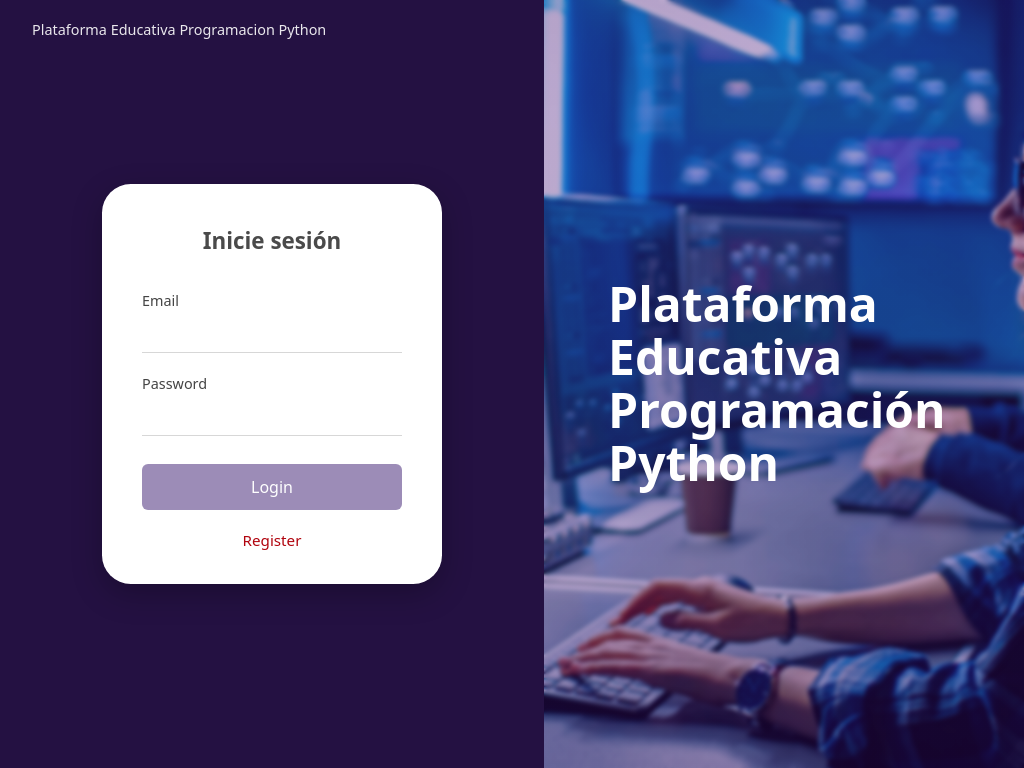
Test: LoginForm (TDD) - login con correo y password › muestra errores de validación cuando faltan datos o son inválidos
The image size is (1024, 768).
Submit the form with test id "form-login", box x1=102 y1=184 x2=442 y2=584
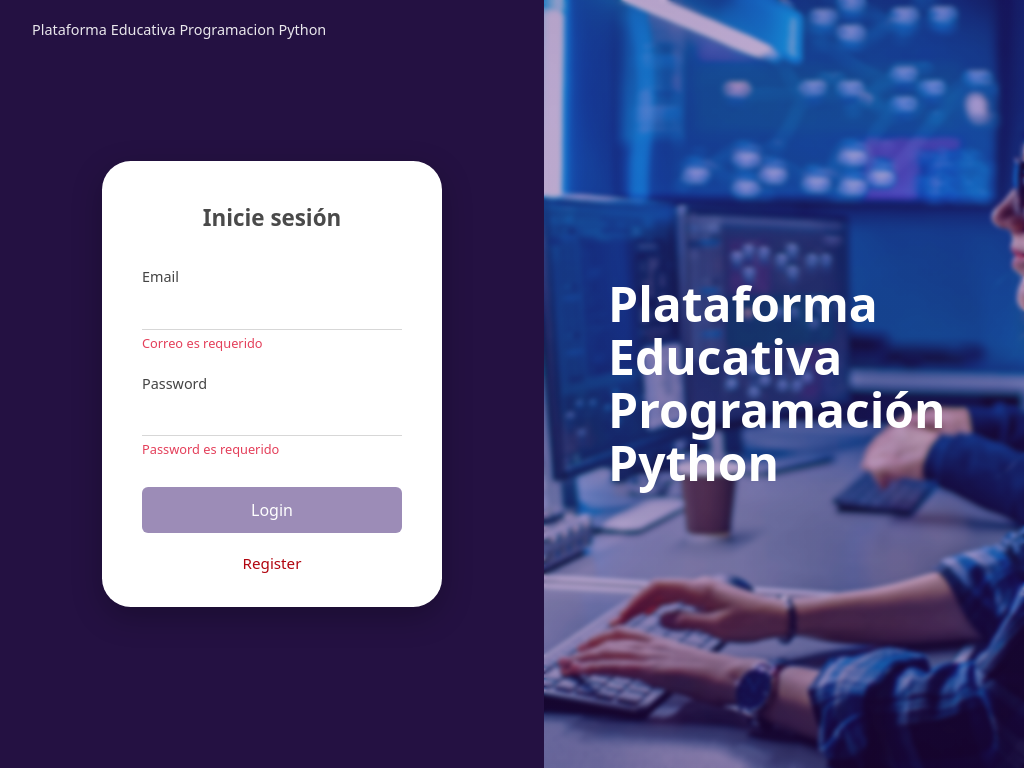
Expected: the text "Correo es requerido" is shown, x1=142 y1=334 x2=262 y2=352
Expected: the text "Password es requerido" is shown, x1=142 y1=440 x2=279 y2=458
In the field labelled "Email": point(272, 311) x1=142 y1=292 x2=402 y2=330, type "correo-sin-dominio"
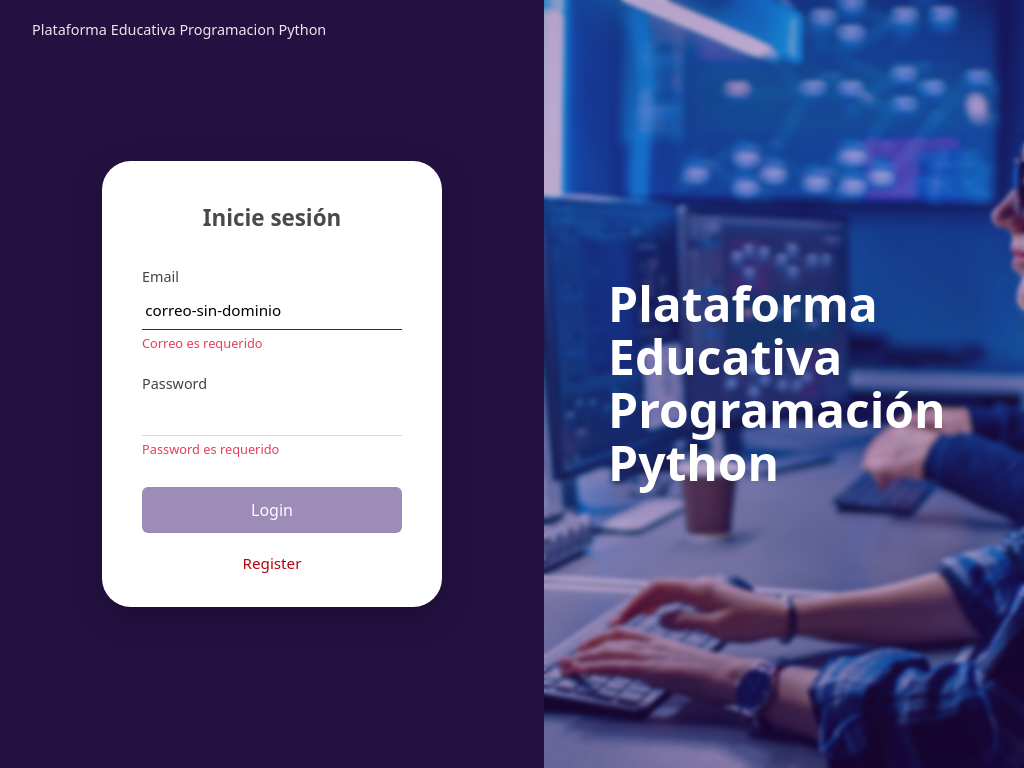
Submit the form with test id "form-login", box x1=102 y1=161 x2=442 y2=607
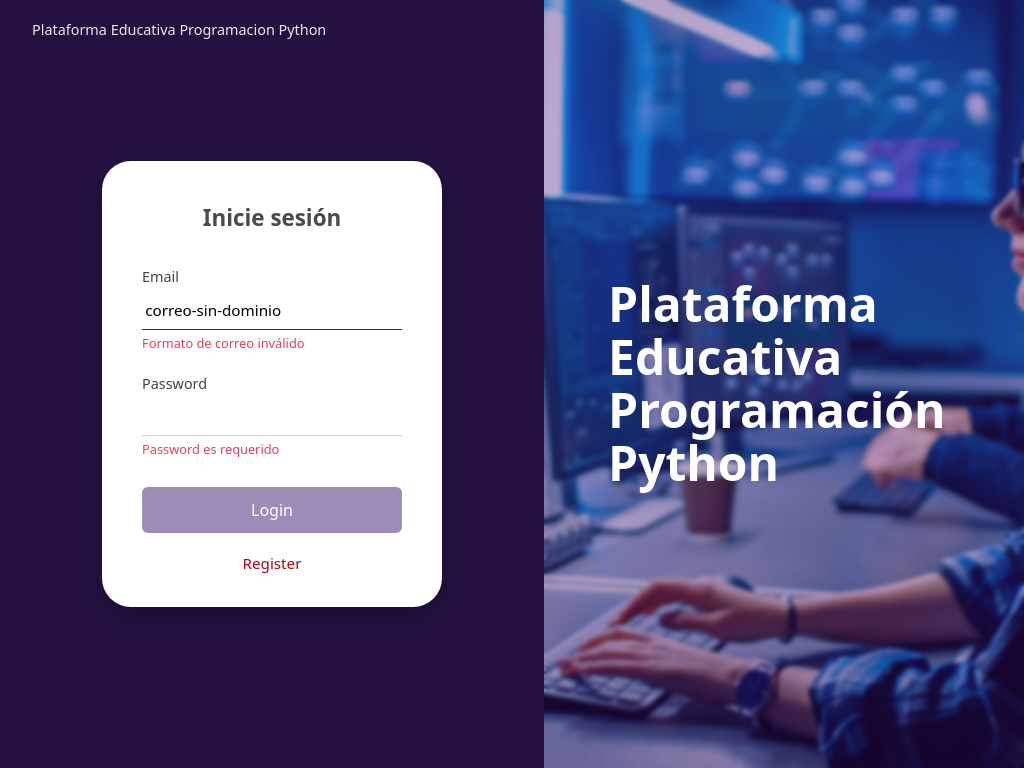
Expected: the text "Formato de correo inválido" is shown, x1=142 y1=334 x2=304 y2=352
In the password field labelled "Password": point(272, 417) x1=142 y1=398 x2=402 y2=436, type "123"
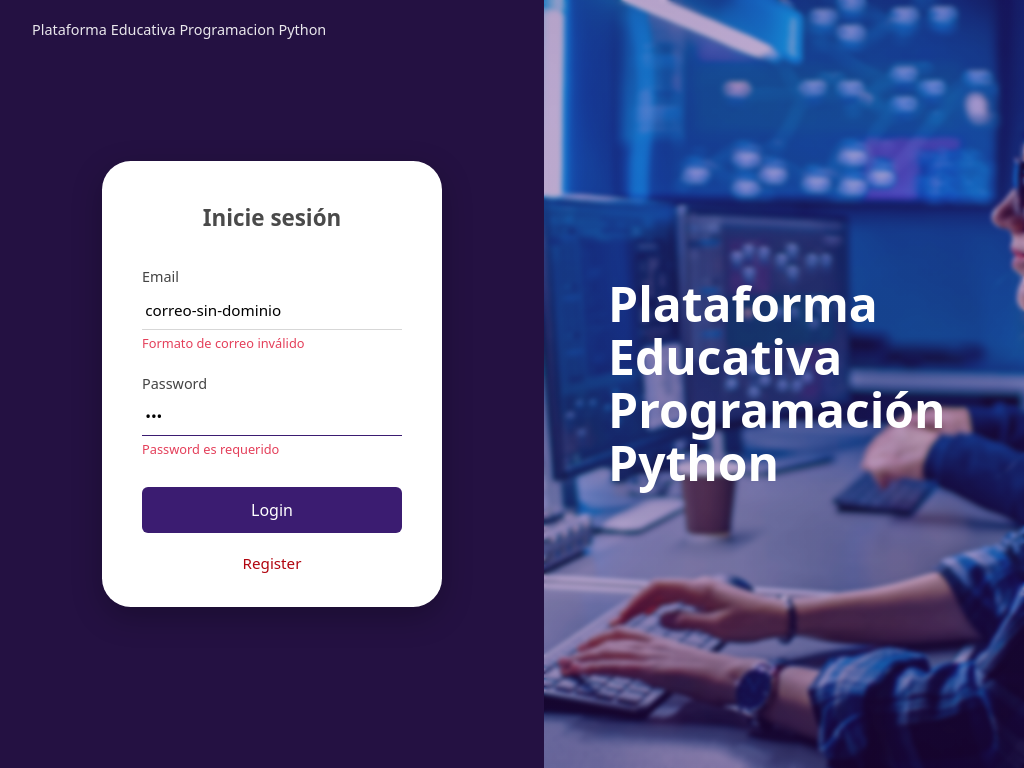
Submit the form with test id "form-login", box x1=102 y1=161 x2=442 y2=607
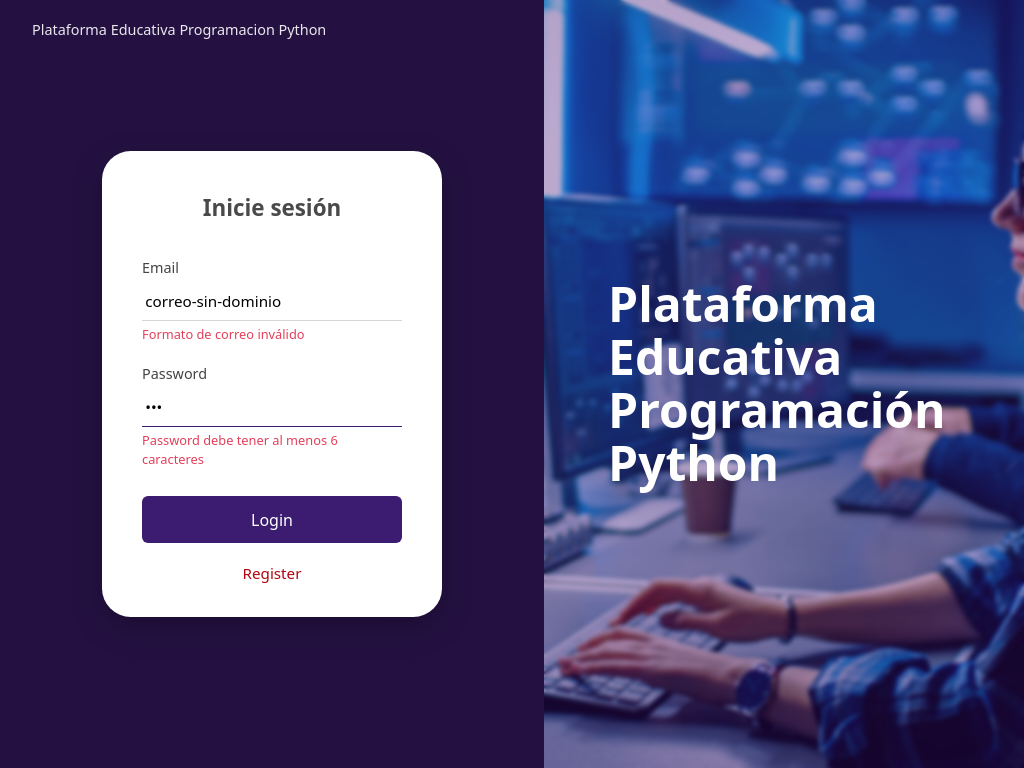
Expected: the text "Password debe tener al menos 6 caracteres" is shown, x1=142 y1=431 x2=338 y2=468
